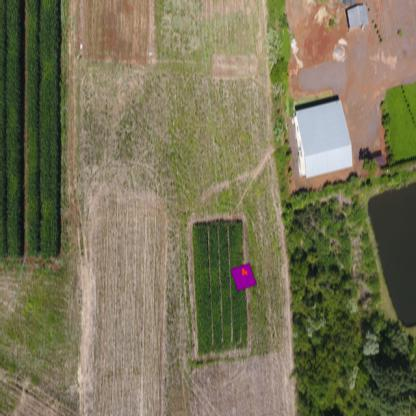4: (240, 266, 248, 277)
rectangle: (229, 263, 257, 291)
